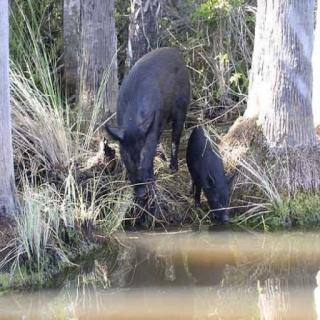Pig: (100, 17, 182, 208), (179, 107, 244, 247)
